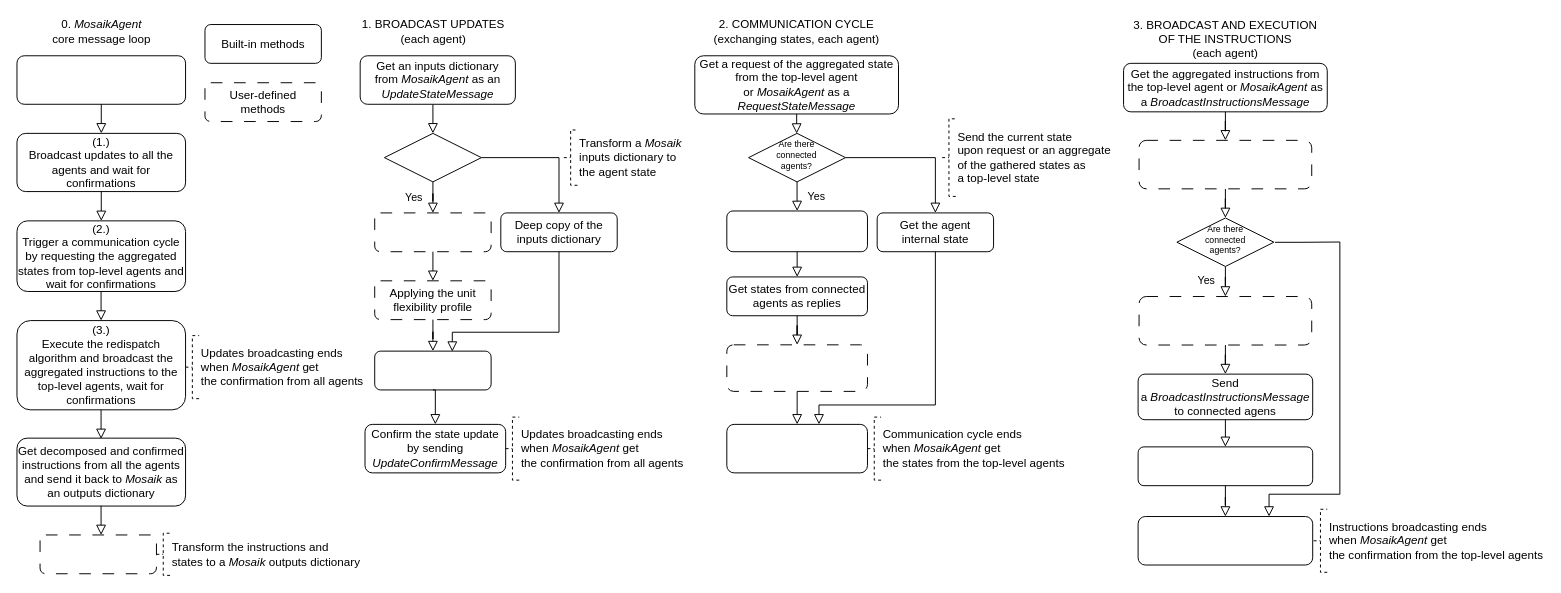
Some shapes in this 1561 by 593 pixel diagram are drawn without their labels. The shapes that lost their labels are listed below. From the top down, each one's centre as x and y in pixels, then its label:
the point at 101,79: Get an inputs dictionary from Mosaik
the point at 432,157: Is ìnput_method defined?
the point at 1225,164: Call execute_method() to execute the instructions internally
the point at 432,232: Call input_method()
the point at 796,231: Send a RequestStateMessage to connected agens
the point at 1225,320: Call redispatch_method() to compose/decompose the instructions
the point at 432,370: Update the agent internal state
the point at 796,367: Call states_agg_method() to get the aggregated state
the point at 796,448: Send the state as an AnswerStateMessage
the point at 1225,466: Wait for InstructionsConfirmMessage
the point at 97,554: Call output_method()
the point at 1225,540: Send an InstructionsConfirmMessage
